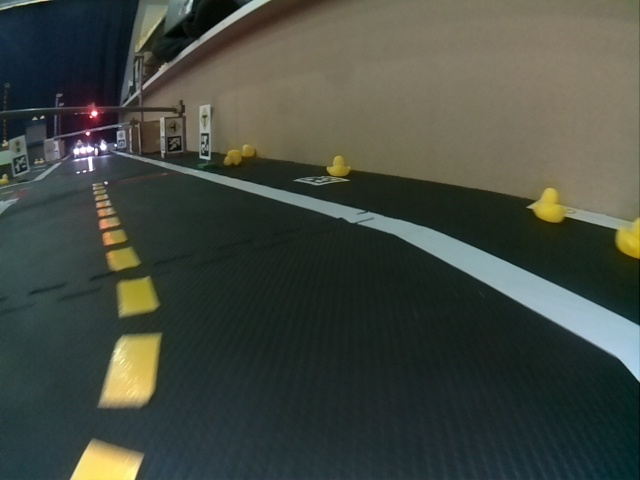Duckie: (536, 188, 564, 223), (616, 216, 639, 255), (327, 156, 351, 175), (224, 150, 240, 164), (241, 144, 254, 156)
Intersection sign: (167, 118, 182, 134), (200, 108, 209, 130)
QR code: (295, 176, 348, 186), (167, 136, 182, 151), (200, 133, 209, 155)
Traffic light: (88, 109, 98, 118)
